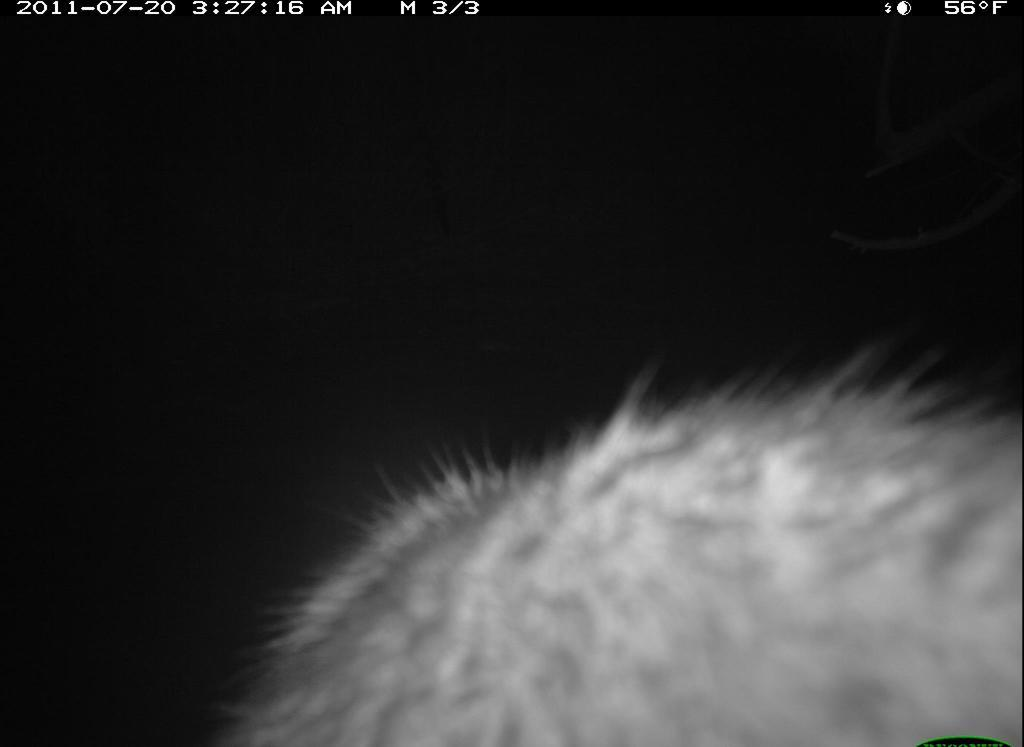raccoon: (208, 324, 1019, 747)
